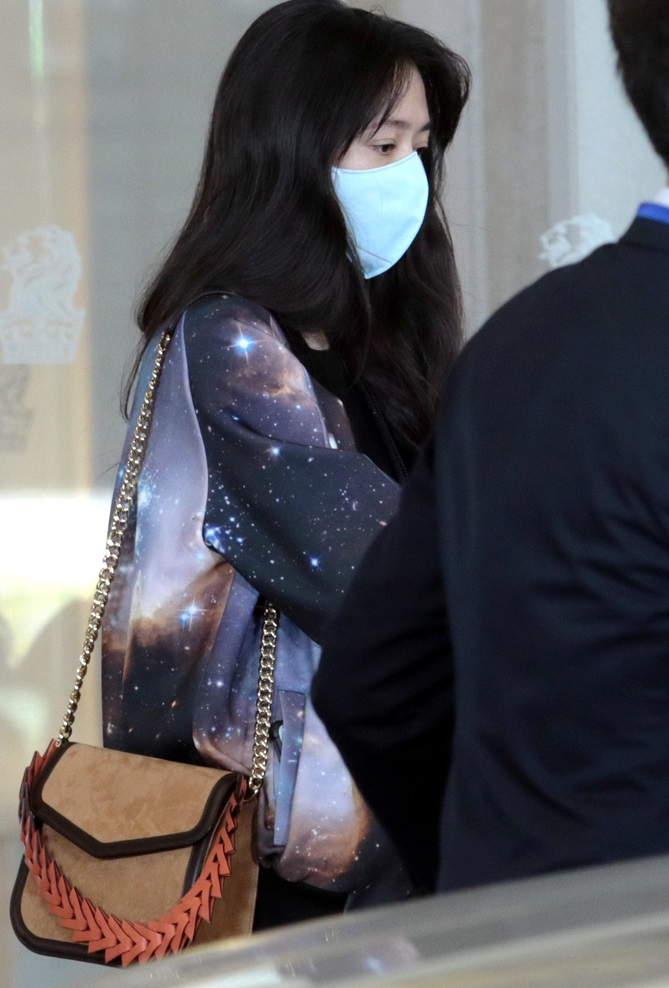face_mask: (321, 45, 434, 285)
